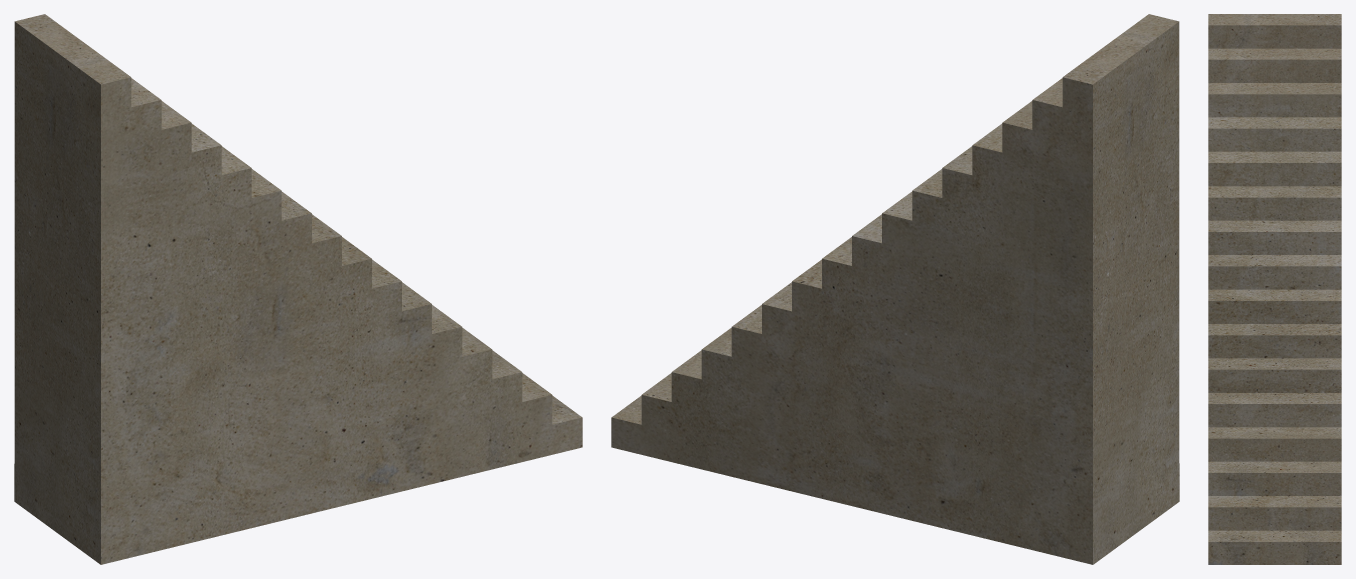
Rendered from concrete_stairs.glb.
3 views of the same model, side by side, from view 1: azimuth 30°, elevation 25°; view 2: azimuth 150°, elevation 25°; view 3: azimuth 270°, elevation 25° (orthographic). The views are drawn at different scales.
Parts seen in each view (by area): view 1: Stairs; view 2: Stairs; view 3: Stairs.
Part boxes in pixels (left/top/right/bottom): Stairs: left=14, top=14, right=582, bottom=564; Stairs: left=611, top=14, right=1179, bottom=564; Stairs: left=1208, top=14, right=1341, bottom=564.
Size of the model in its own units: 130 by 124 by 40.44.
Materials: 1 (1 with a texture image).
